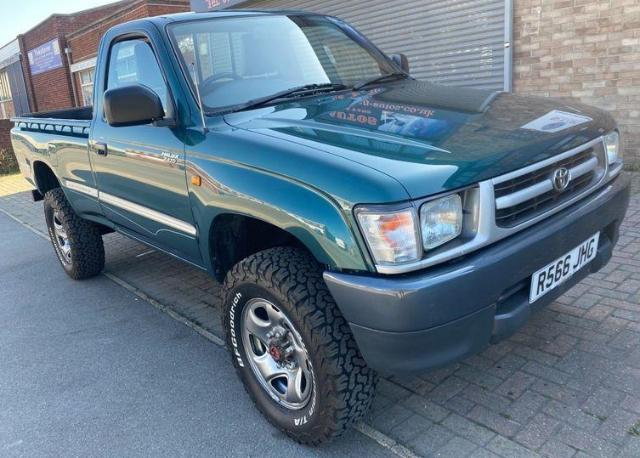pickup-truck: (8, 10, 632, 446)
